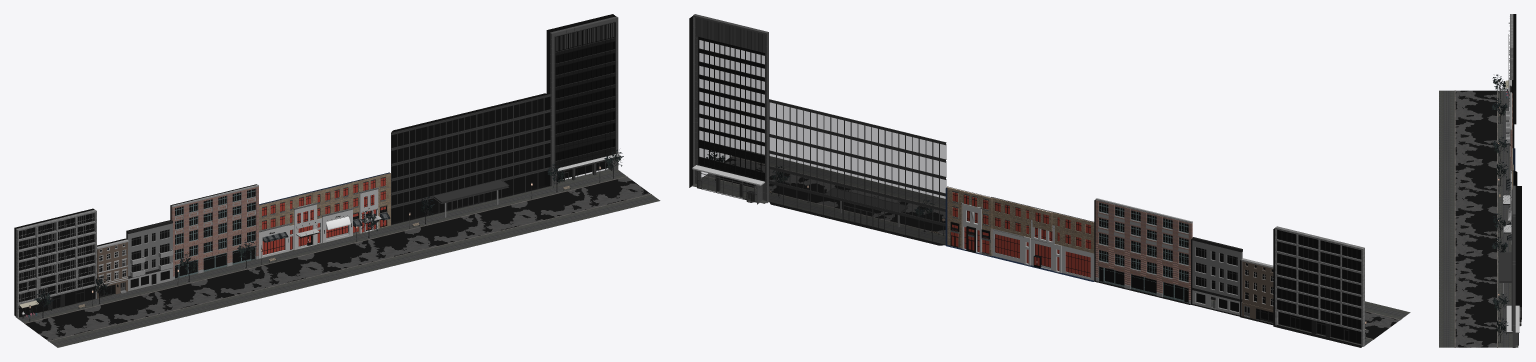
The model's file is ReplaceCGT_Facades.fbx.
3 views of the same model, side by side, from view 1: azimuth 30°, elevation 25°; view 2: azimuth 150°, elevation 25°; view 3: azimuth 270°, elevation 25° (orthographic). The views are drawn at different scales.
Visible parts, largest first — view 1: Road, wP_Facade_F, wP_Facade_G, wP_Facade_A, wP_Facade_E, wP_Facade_D, wP_Facade_C, wP_Facade_B; view 2: wP_Facade_F, wP_Facade_G, wP_Facade_A, wP_Facade_E, Road, wP_Facade_D, wP_Facade_C, wP_Facade_B; view 3: Road, wP_Facade_G, wP_Facade_A, wP_Facade_F, wP_Facade_E, wP_Facade_D, wP_Facade_C, wP_Tree_002, wP_Tree_003, wP_Tree_007, wP_Tree_001, wP_Tree_005 (+3 smaller).
Boxes of the visible parts, x1,y1,x2,y2 form: Road: (16,169,660,347); wP_Facade_F: (391,93,551,225); wP_Facade_G: (546,14,621,186); wP_Facade_A: (14,208,96,317); wP_Facade_E: (258,172,390,258); wP_Facade_D: (170,184,258,279); wP_Facade_C: (126,220,173,291); wP_Facade_B: (96,238,128,298); wP_Facade_F: (769,99,946,245); wP_Facade_G: (689,14,769,204); wP_Facade_A: (1273,226,1364,347); wP_Facade_E: (945,186,1094,281); Road: (692,149,1410,346); wP_Facade_D: (1094,198,1192,304); wP_Facade_C: (1191,237,1242,316); wP_Facade_B: (1240,258,1273,324); Road: (1439,90,1518,347); wP_Facade_G: (1505,185,1521,347); wP_Facade_A: (1508,14,1516,124); wP_Facade_F: (1499,170,1517,293); wP_Facade_E: (1503,148,1515,244); wP_Facade_D: (1510,92,1514,169); wP_Facade_C: (1505,85,1513,156); wP_Tree_002: (1492,97,1507,123); wP_Tree_003: (1492,136,1509,161); wP_Tree_007: (1492,293,1509,318); wP_Tree_001: (1492,74,1507,99); wP_Tree_005: (1492,213,1507,238).
Size of the model in its own units: 19800 by 4803 by 2690.
83 materials, 14 textured.
